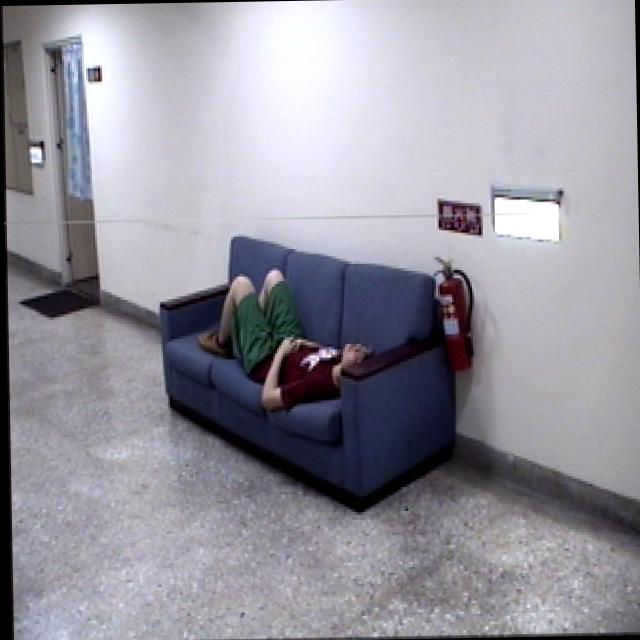lie: (190, 258, 388, 418)
